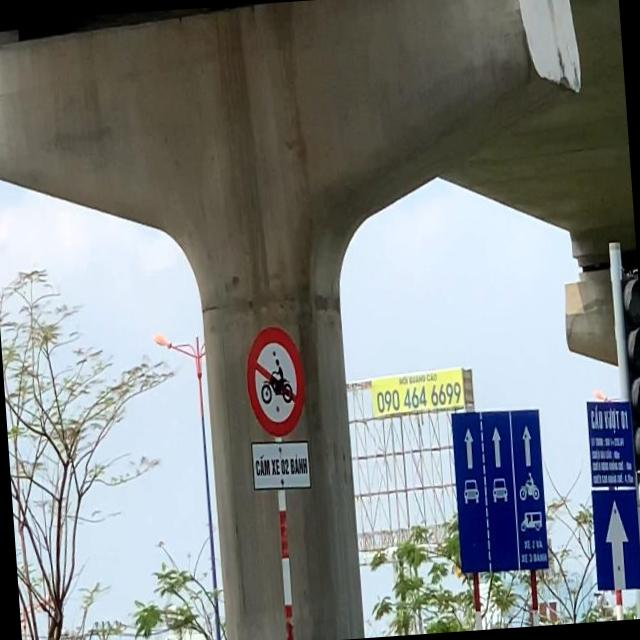I-407a: (589, 485, 640, 590)
P-104: (242, 322, 308, 436)
